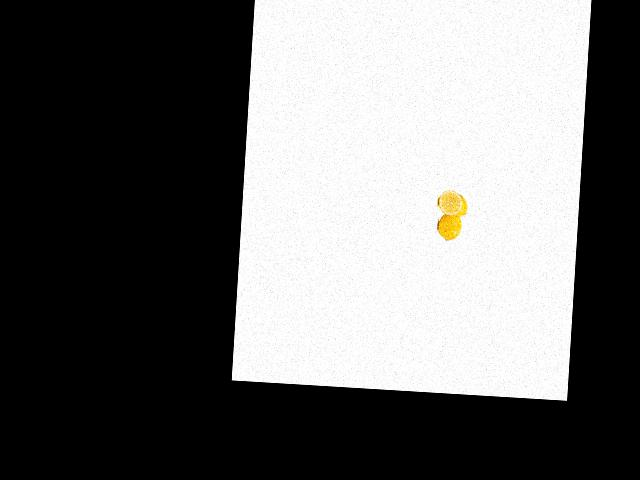lemon: (443, 187, 470, 218)
